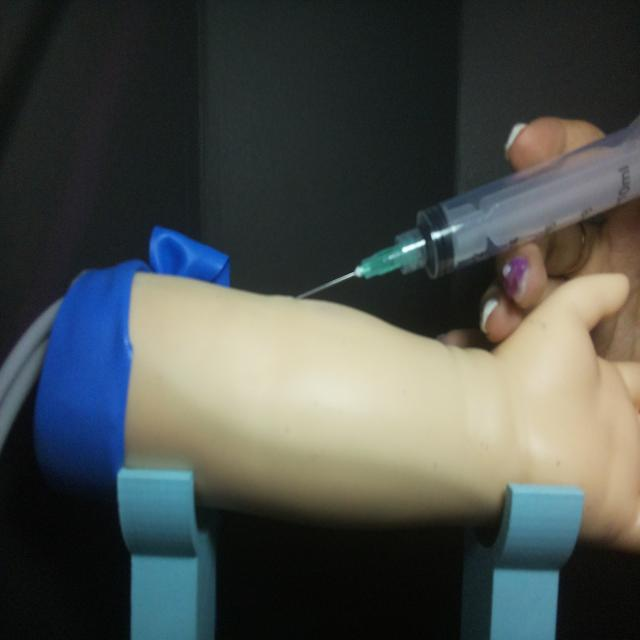17deg: (290, 111, 638, 304)
